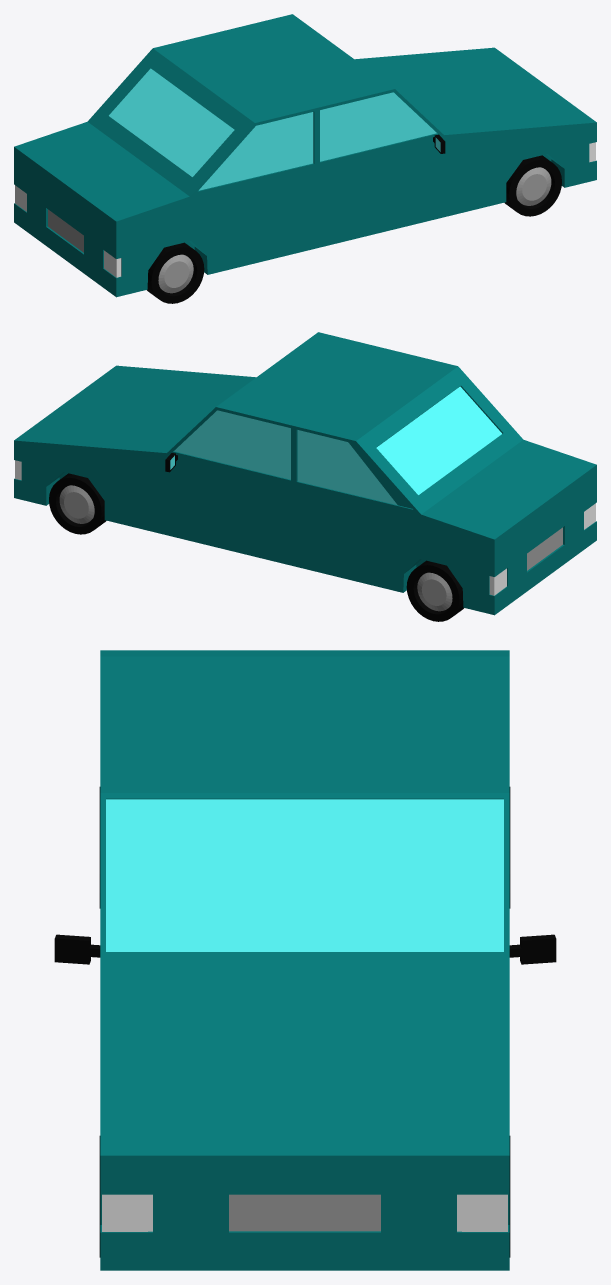
File: Car7.fbx
3 views of the same model, one above another, from view 1: azimuth 30°, elevation 25°; view 2: azimuth 150°, elevation 25°; view 3: azimuth 270°, elevation 25° (orthographic). The views are drawn at different scales.
Parts seen in each view (by area): view 1: Car7; view 2: Car7; view 3: Car7.
Boxes of the visible parts, box(x1,y1,x2,y2) form: Car7: box(14, 14, 596, 303); Car7: box(14, 332, 596, 621); Car7: box(54, 650, 556, 1270).
Size of the model in its own units: 543 by 174 by 245.
